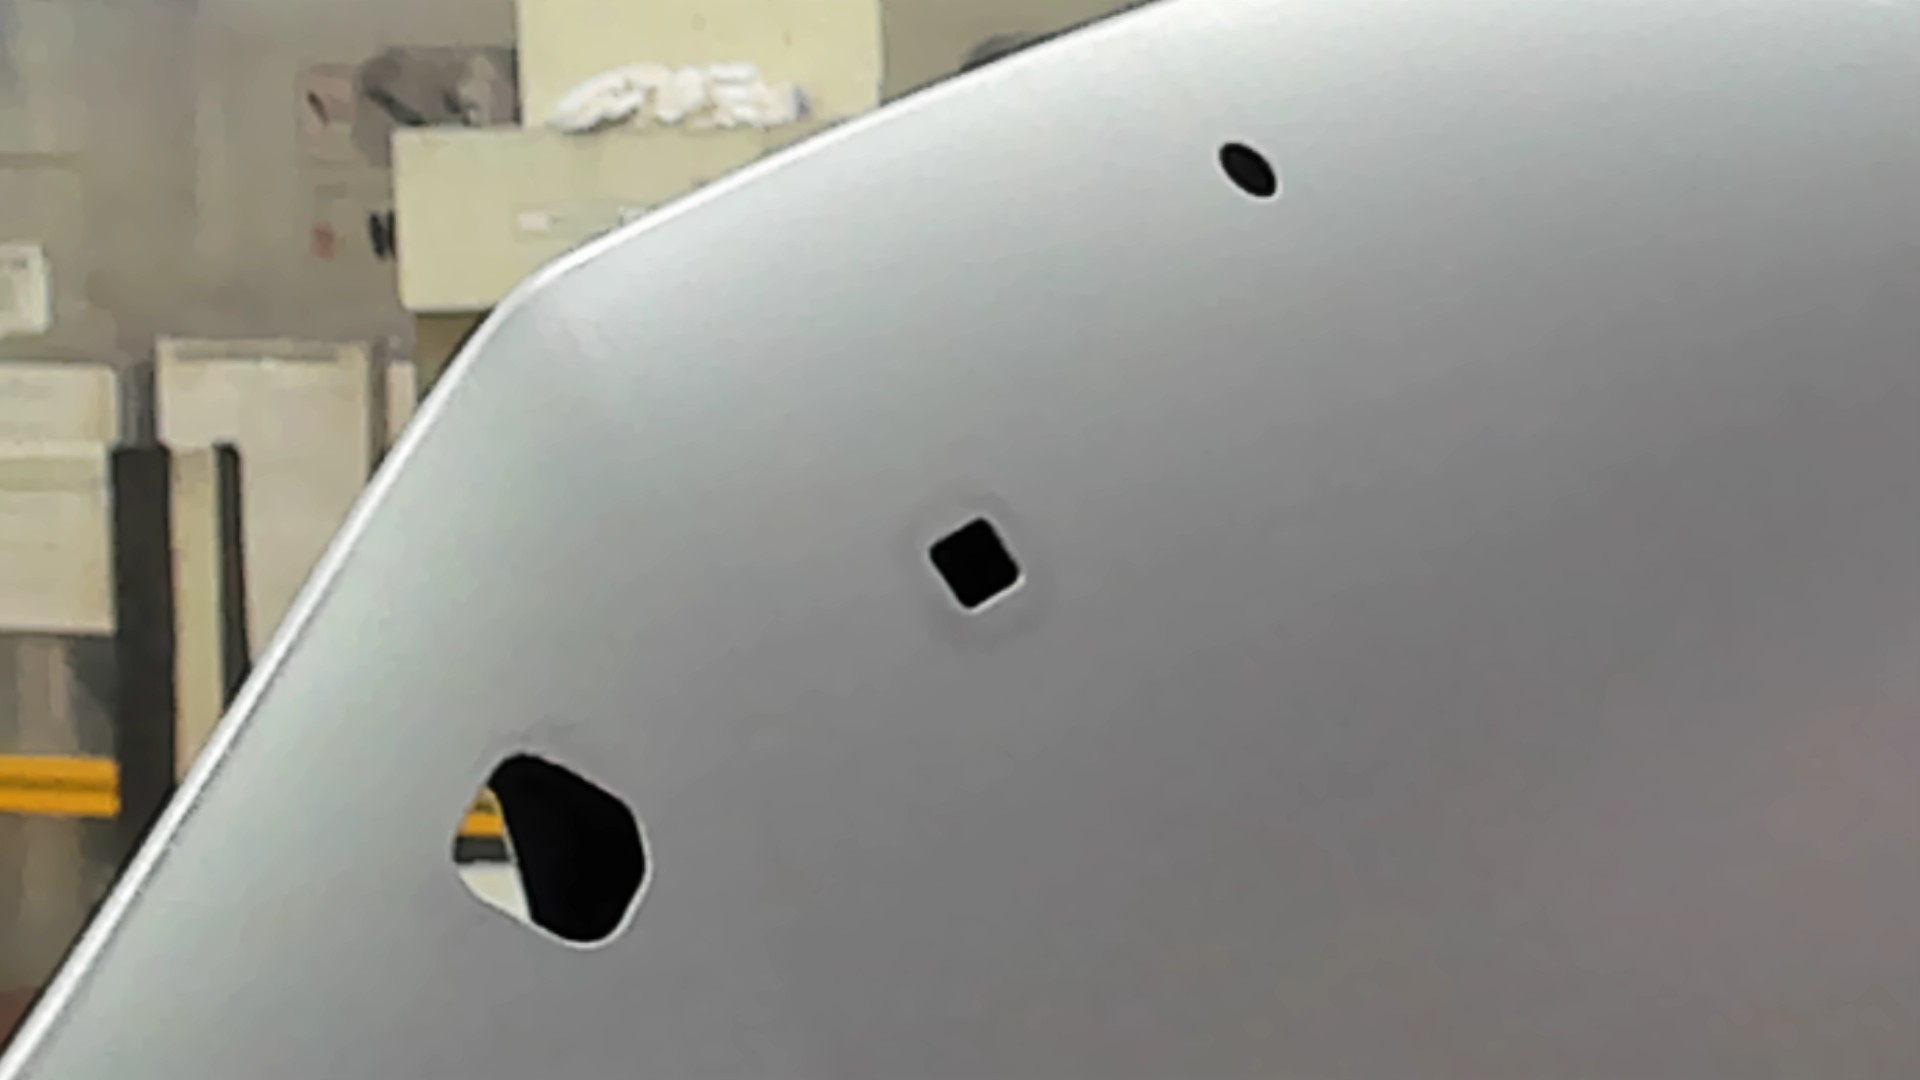capo: (1031, 210, 1920, 1080)
chico: (1213, 138, 1286, 204)
grande: (442, 740, 657, 956)
mediano: (920, 508, 1030, 618)
